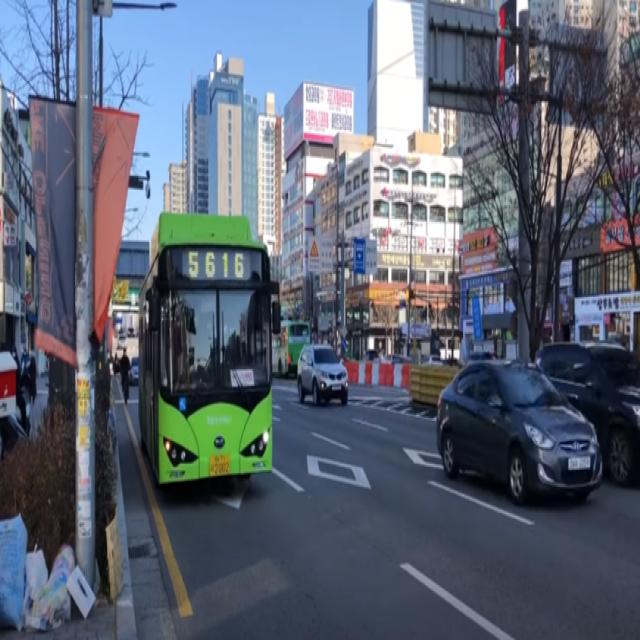bus-number: (188, 248, 245, 280)
